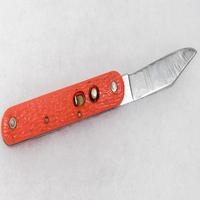knife: (2, 42, 196, 146)
